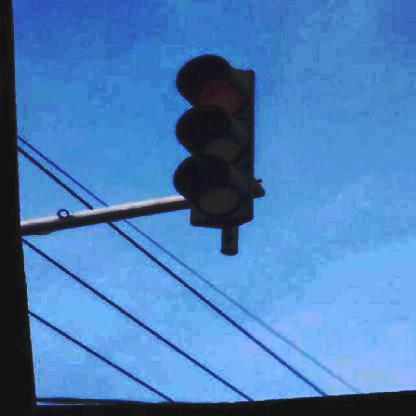Traffic Light -Red-: (165, 52, 266, 230)
